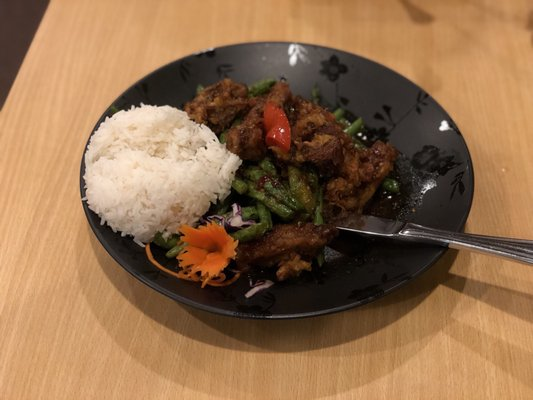burger: (329, 219, 533, 267)
